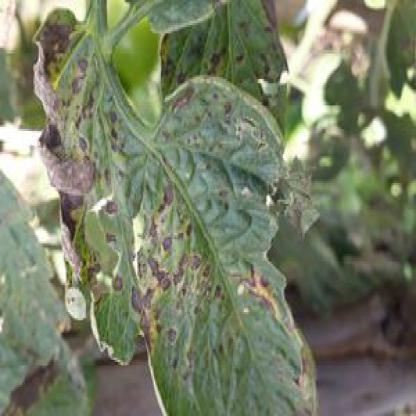Tomato Septoria leaf spot: (36, 8, 322, 414)
